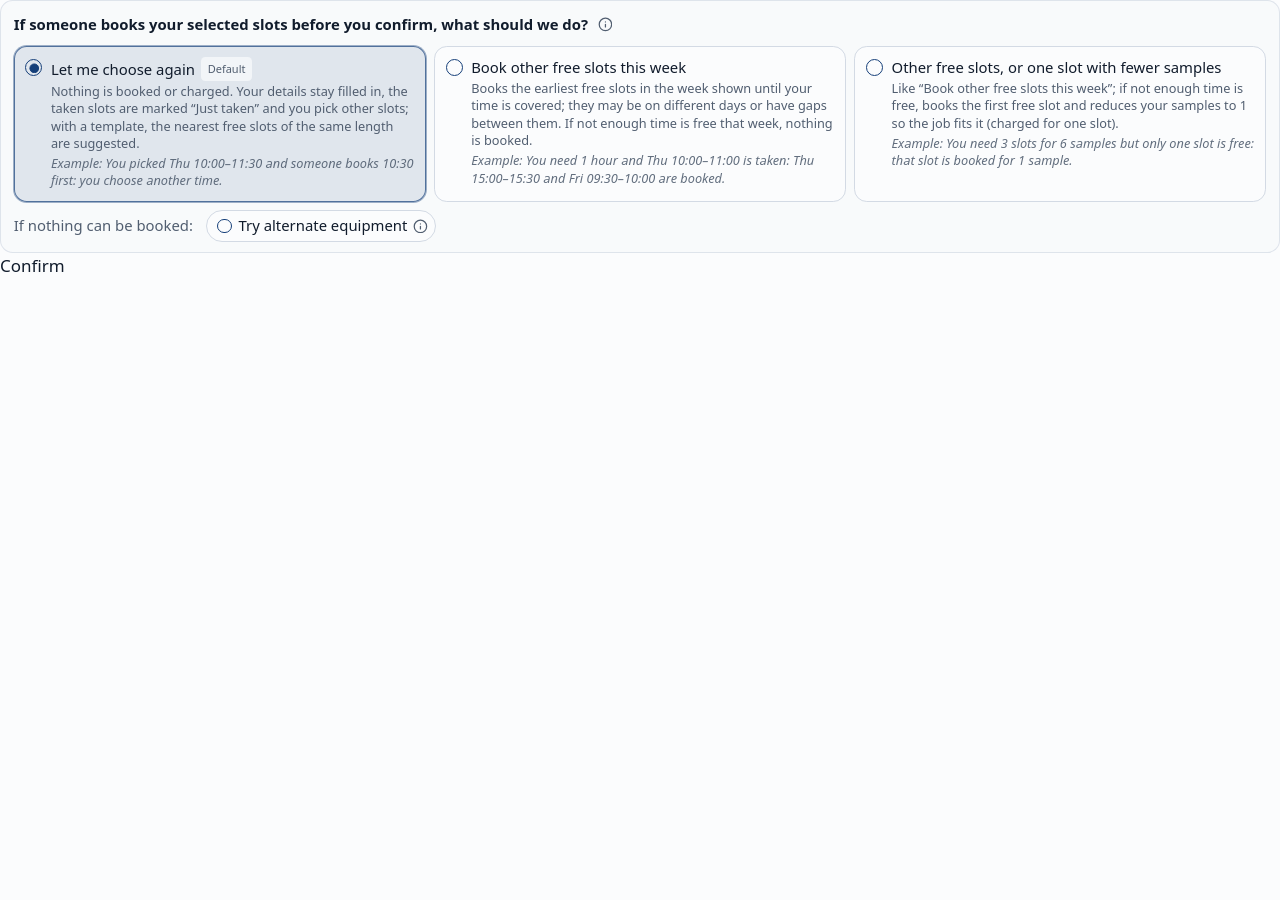
Scenario: BookingFallbackOptions › selects an answer when its card is clicked, and explains the question behind the info button
The image size is (1280, 900).
Click the text "Like “Book other free slots this week”; if not enough time is free, books the first free slot and reduces your samples t" at (1073, 106), box [892,80,1255,132]
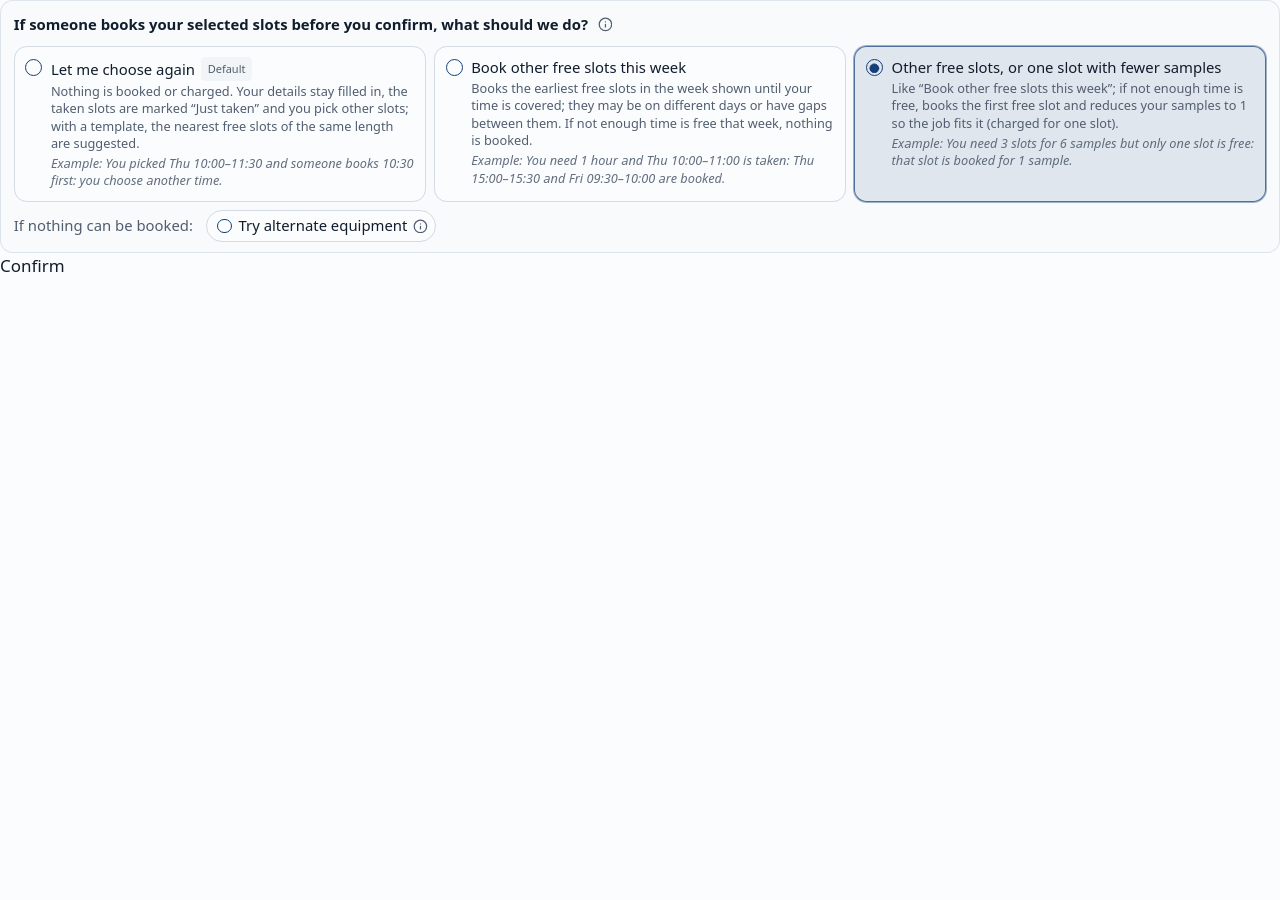
Expected: the 3rd radio button named "Other free slots, or one slot with fewer samples" is checked, [866,59,883,76]
Click the button named "About this question" at (605, 24), box [592,12,618,37]
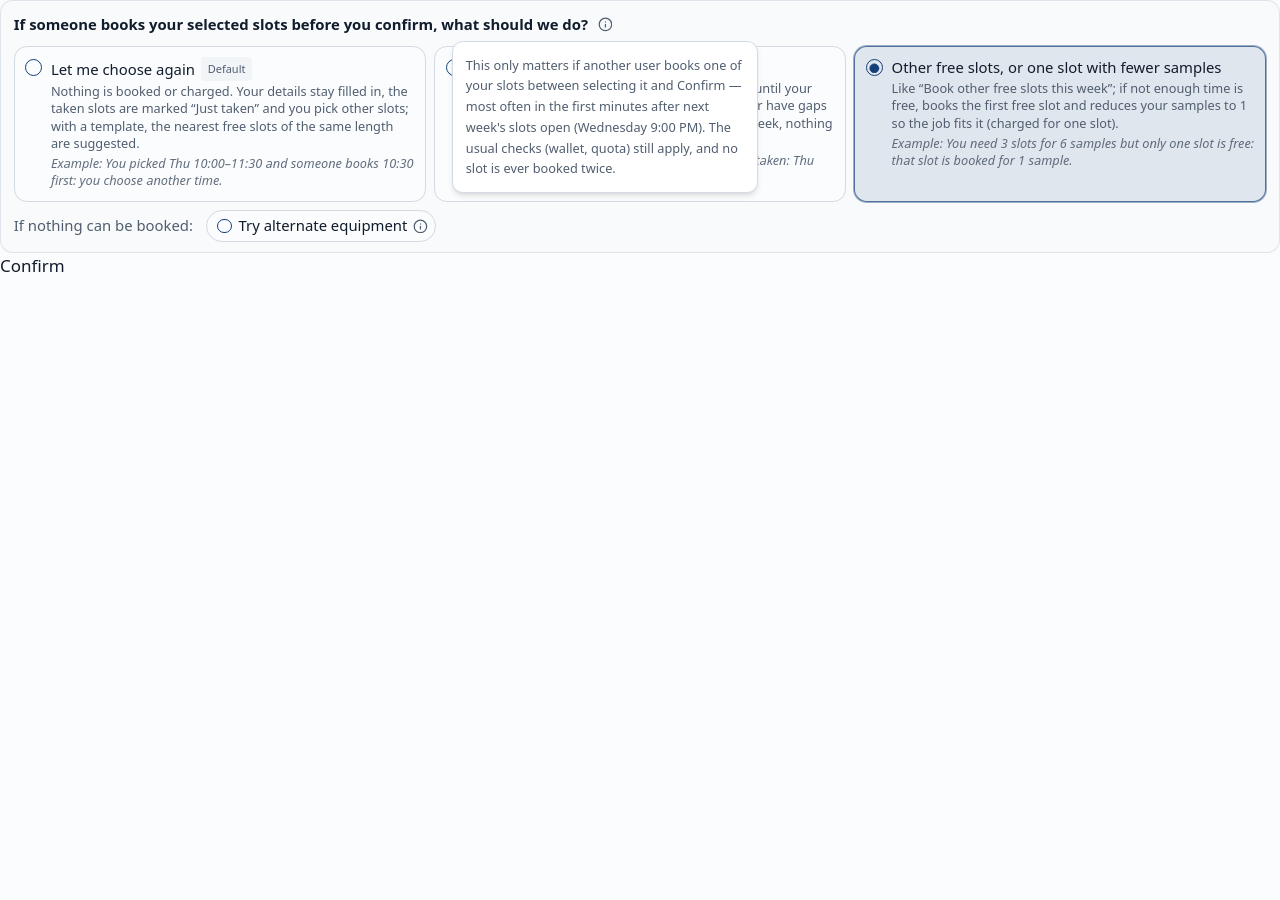
Expected: the text "This only matters if another user books one of your slots between selecting it and Confirm — most often in the first min" is shown, [466,56,742,177]
